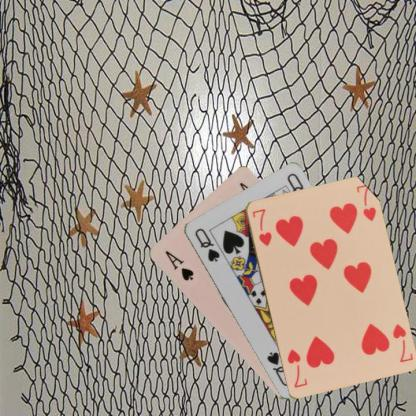7h: (389, 322, 414, 364), (250, 206, 272, 247)
As: (162, 247, 194, 282)
Qs: (192, 225, 221, 263)
